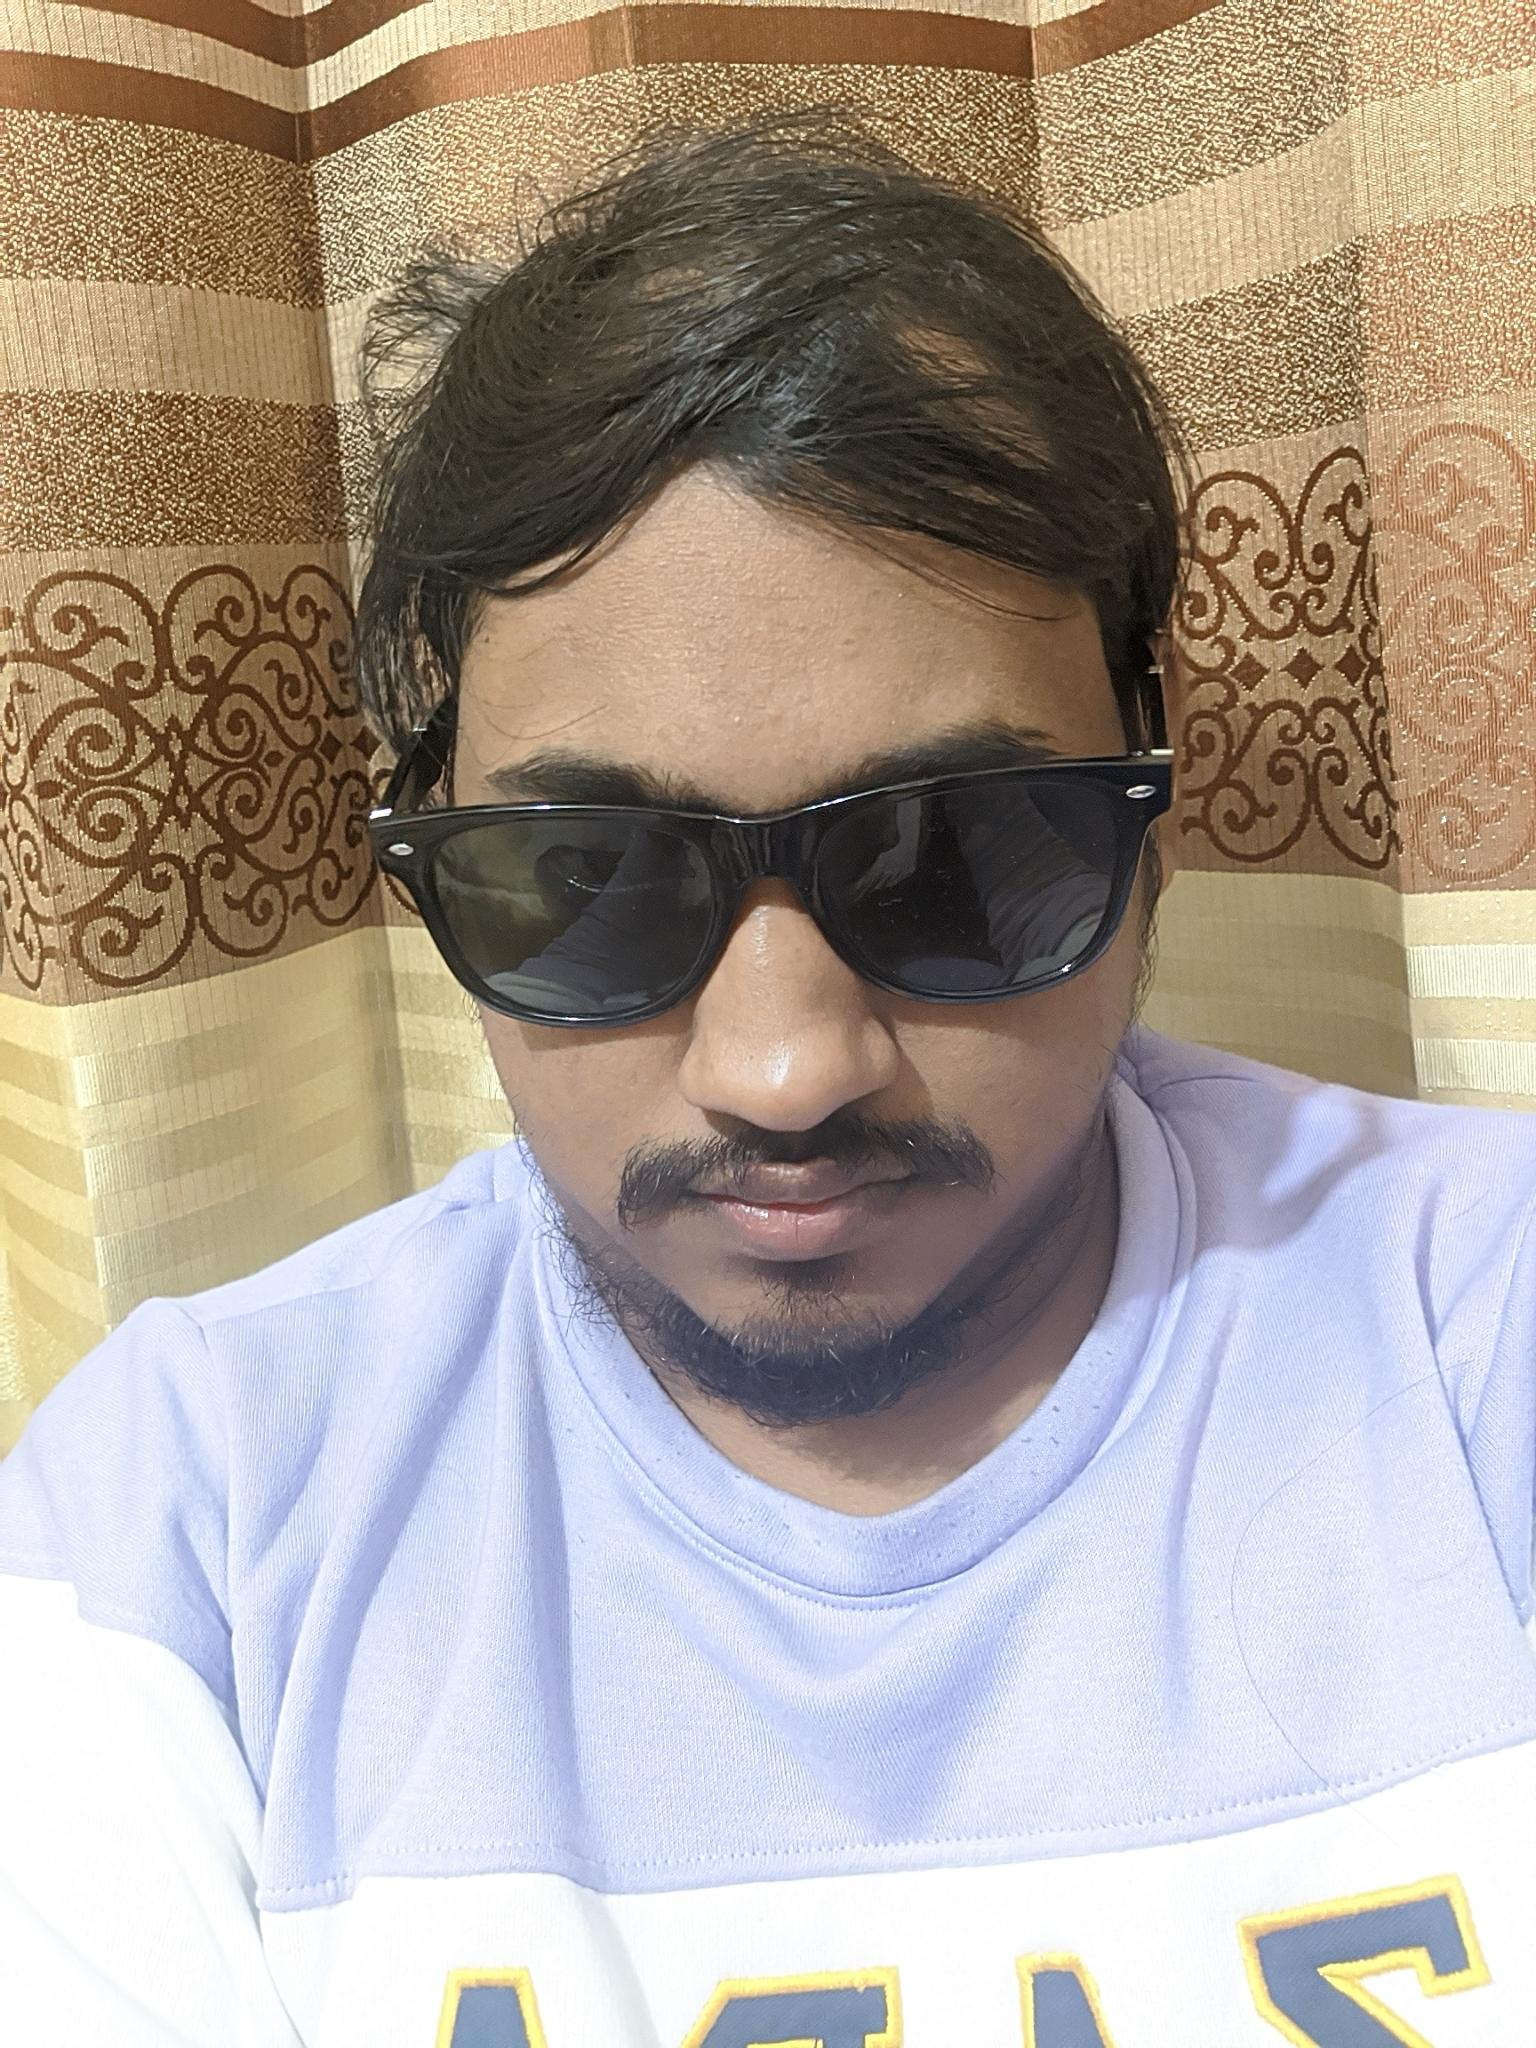Neutral: (450, 645, 1152, 1376)
